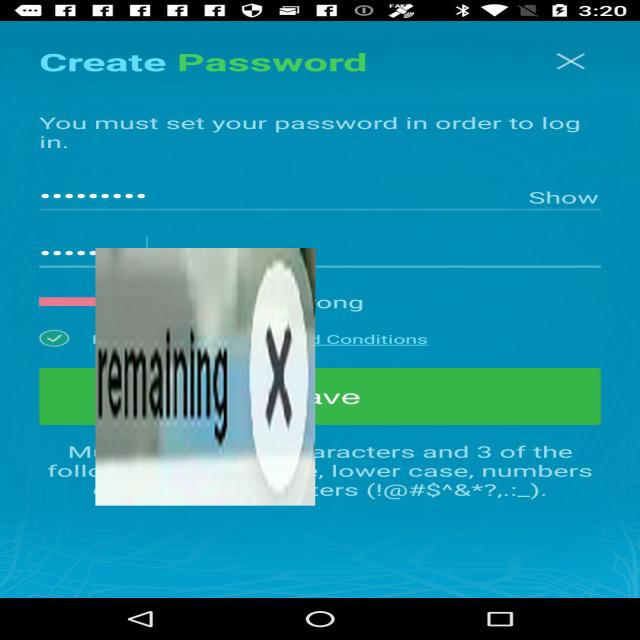misdirection: (96, 248, 316, 506)
